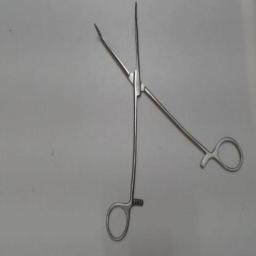Lahey Forceps: (88, 0, 246, 246)
